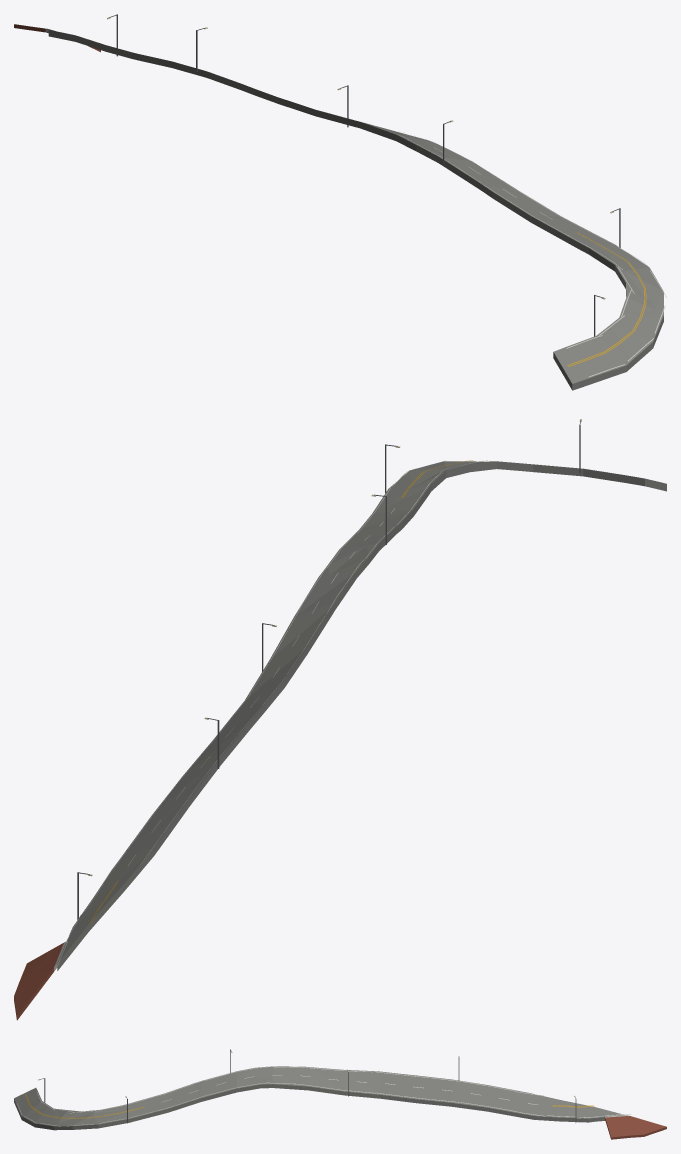
The picture shows the model from 3 angles, top to bottom: view 1: azimuth 30°, elevation 25°; view 2: azimuth 150°, elevation 25°; view 3: azimuth 270°, elevation 25°; orthographic projection. The views are drawn at different scales.
Size of the model in its own units: 28.84 by 29.95 by 182.
